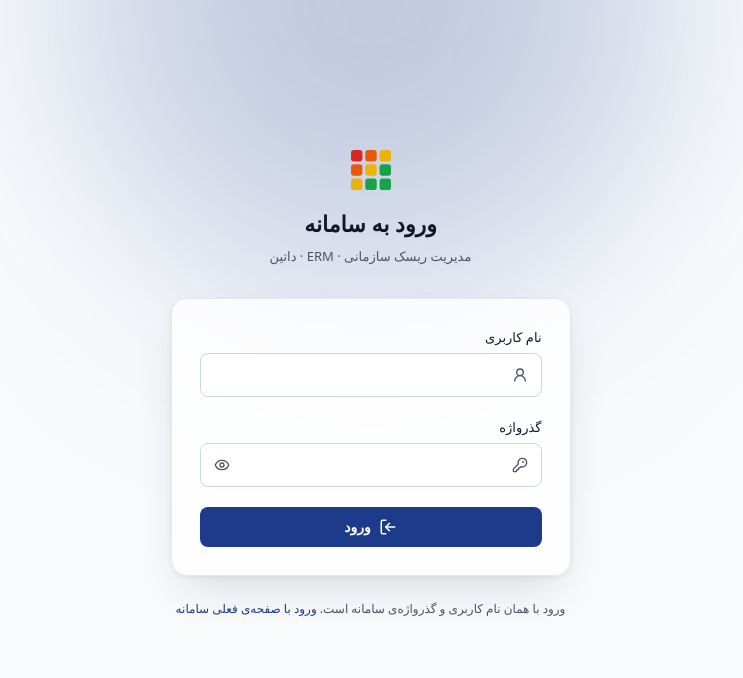
LoginPage › refreshes a stale CSRF token after a 403
This screenshot has width=743, height=678.
In the field labelled "نام کاربری": (370, 375) x1=200 y1=353 x2=542 y2=397, type "tester"
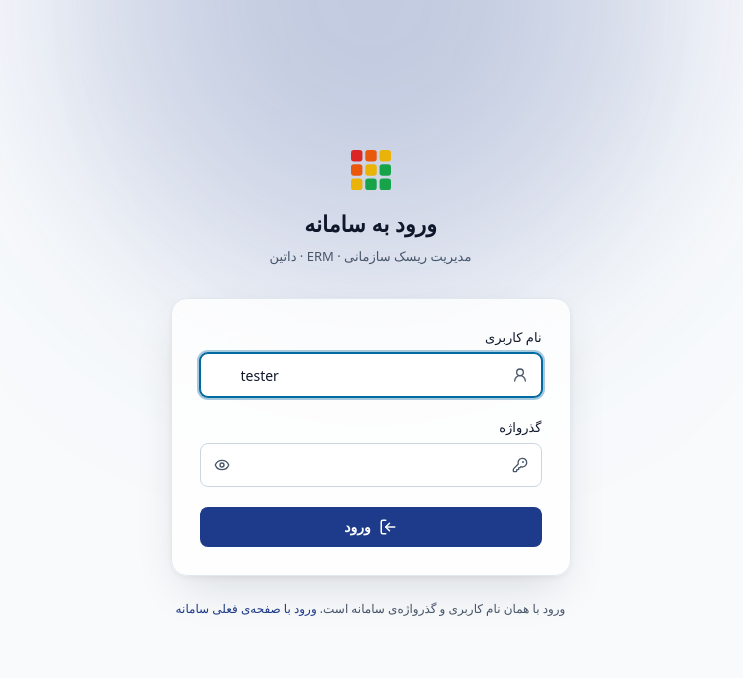
In the password field labelled "گذرواژه": (370, 465) x1=200 y1=443 x2=542 y2=487, type "secret-pass"
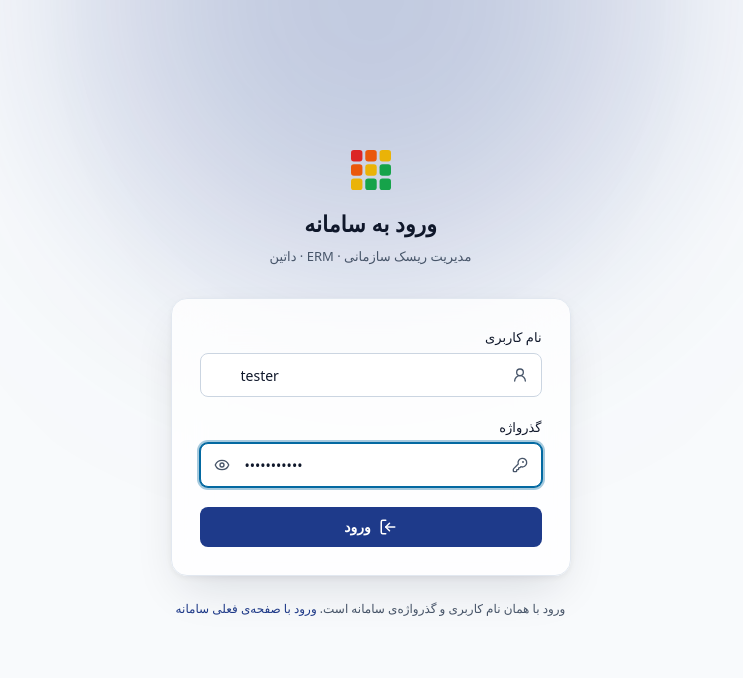
Click the button "ورود": click(370, 527) x1=200 y1=507 x2=542 y2=547
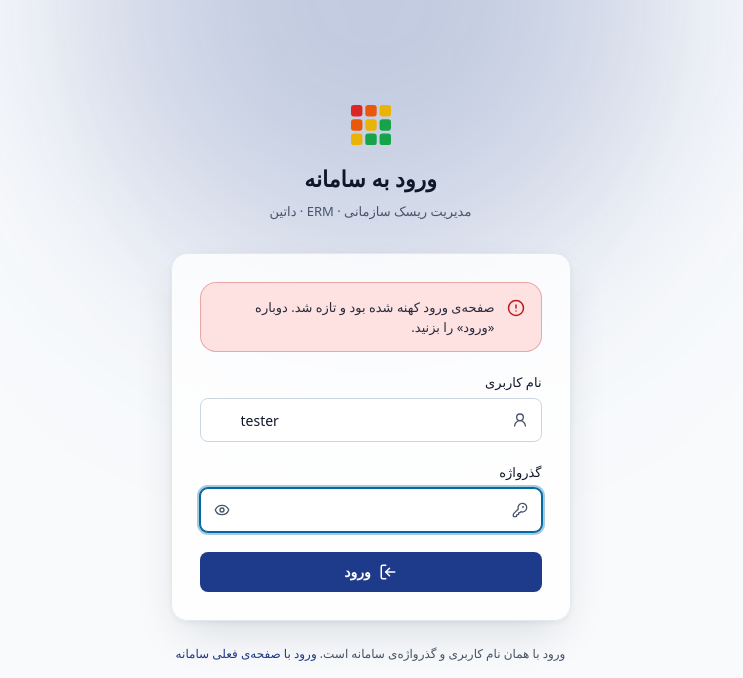
Expected: the message shows "صفحه‌ی ورود کهنه شده بود", x1=255 y1=298 x2=494 y2=336
